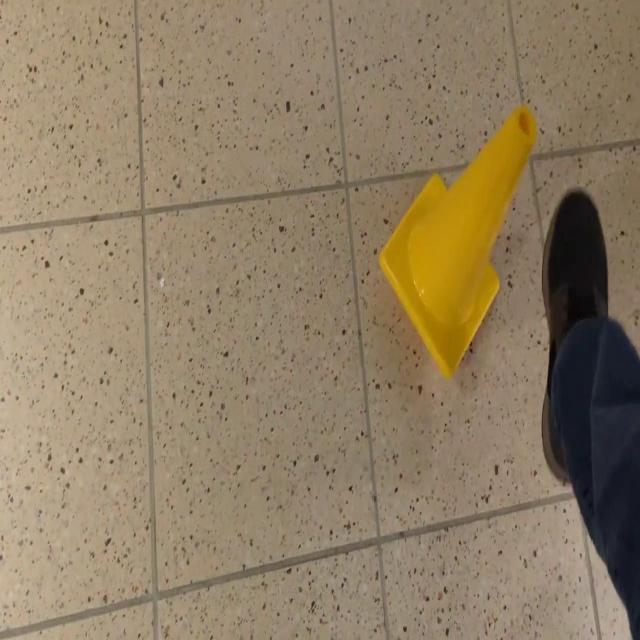frc_cone: (376, 102, 536, 382)
